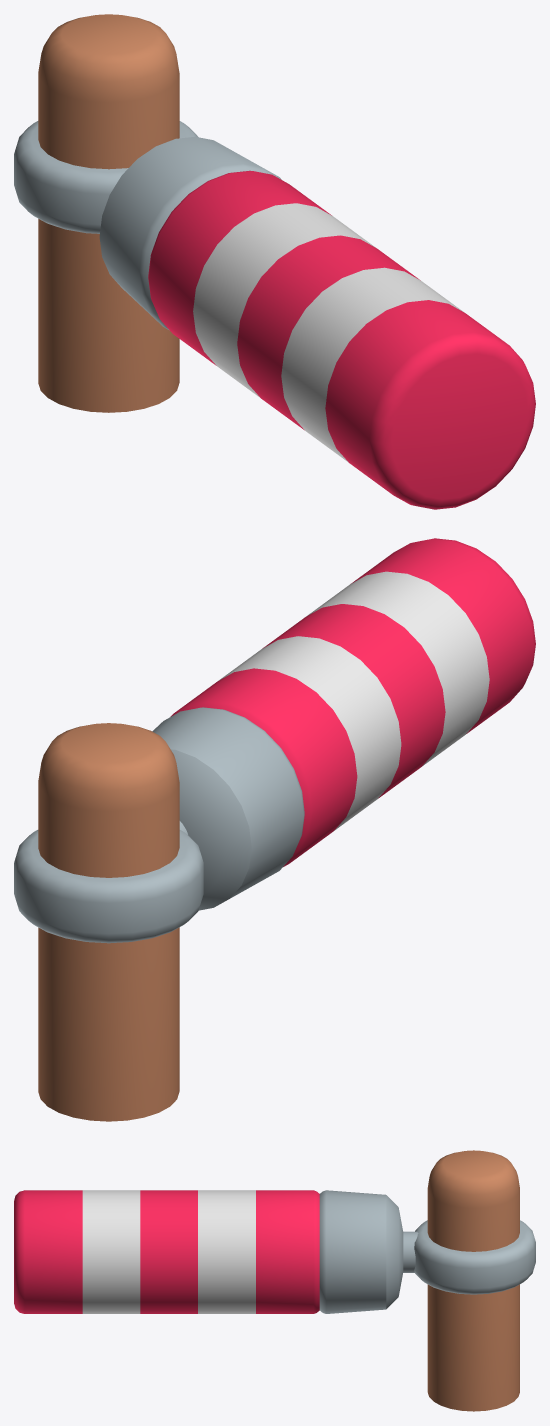
File: swiper_teamRed-col.glb
The picture shows the model from 3 angles, top to bottom: view 1: azimuth 30°, elevation 25°; view 2: azimuth 150°, elevation 25°; view 3: azimuth 270°, elevation 25°; orthographic projection. The views are drawn at different scales.
Parts seen in each view (by area): view 1: swiper_teamRed-col; view 2: swiper_teamRed-col; view 3: swiper_teamRed-col.
Part boxes in pixels (<box>): swiper_teamRed-col: <box>14,14,535,509</box>; swiper_teamRed-col: <box>14,538,535,1121</box>; swiper_teamRed-col: <box>14,1150,535,1411</box>.
Size of the model in its own units: 0.8059 by 1.63 by 3.38.
